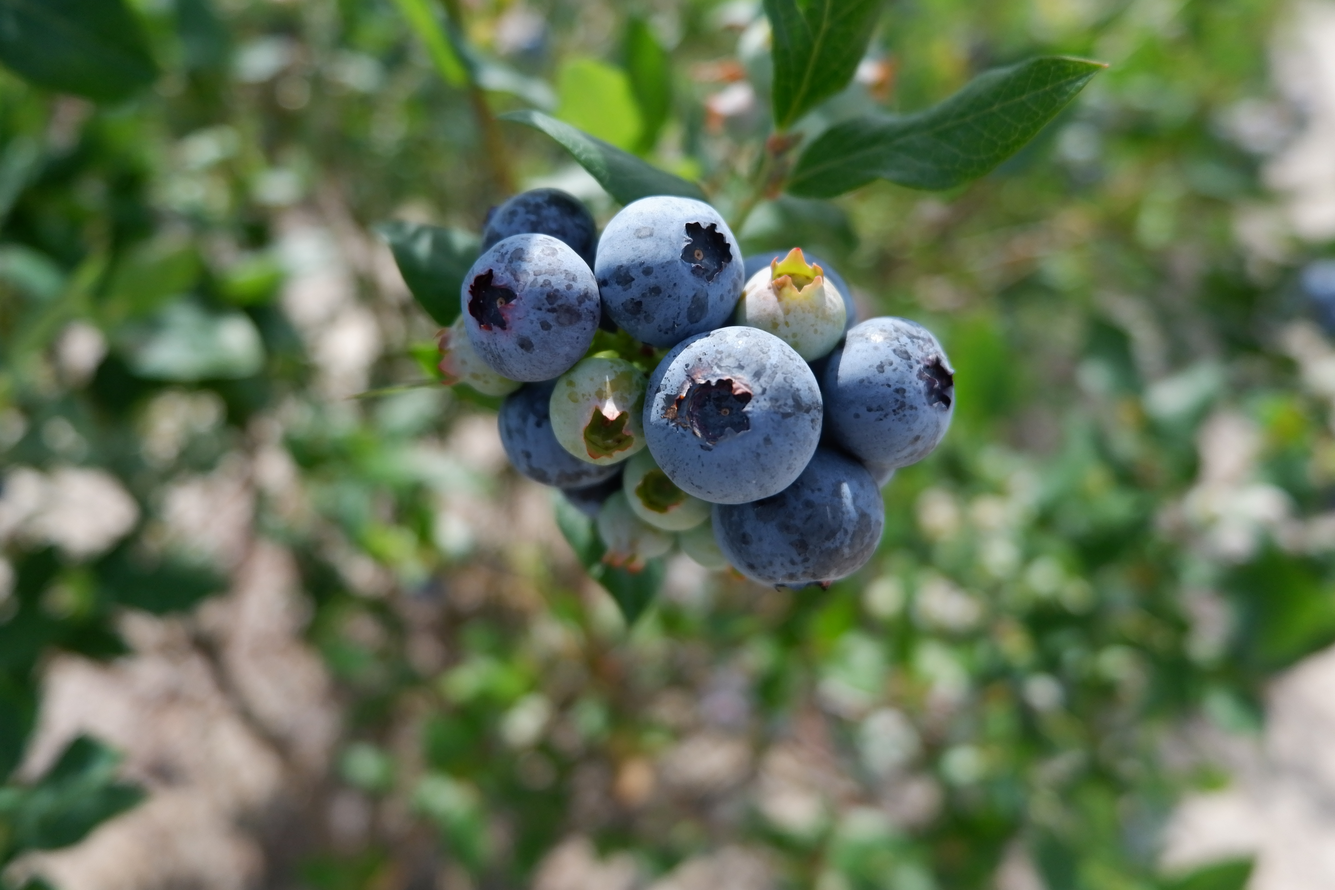Immature: (734, 251, 848, 359), (552, 358, 645, 460), (626, 451, 711, 530), (598, 494, 674, 569), (441, 320, 516, 395), (681, 519, 732, 569)
Mature: (644, 331, 821, 500), (714, 445, 881, 588), (597, 199, 741, 345), (823, 316, 953, 467), (463, 235, 597, 378), (500, 380, 624, 502), (479, 190, 596, 261)
